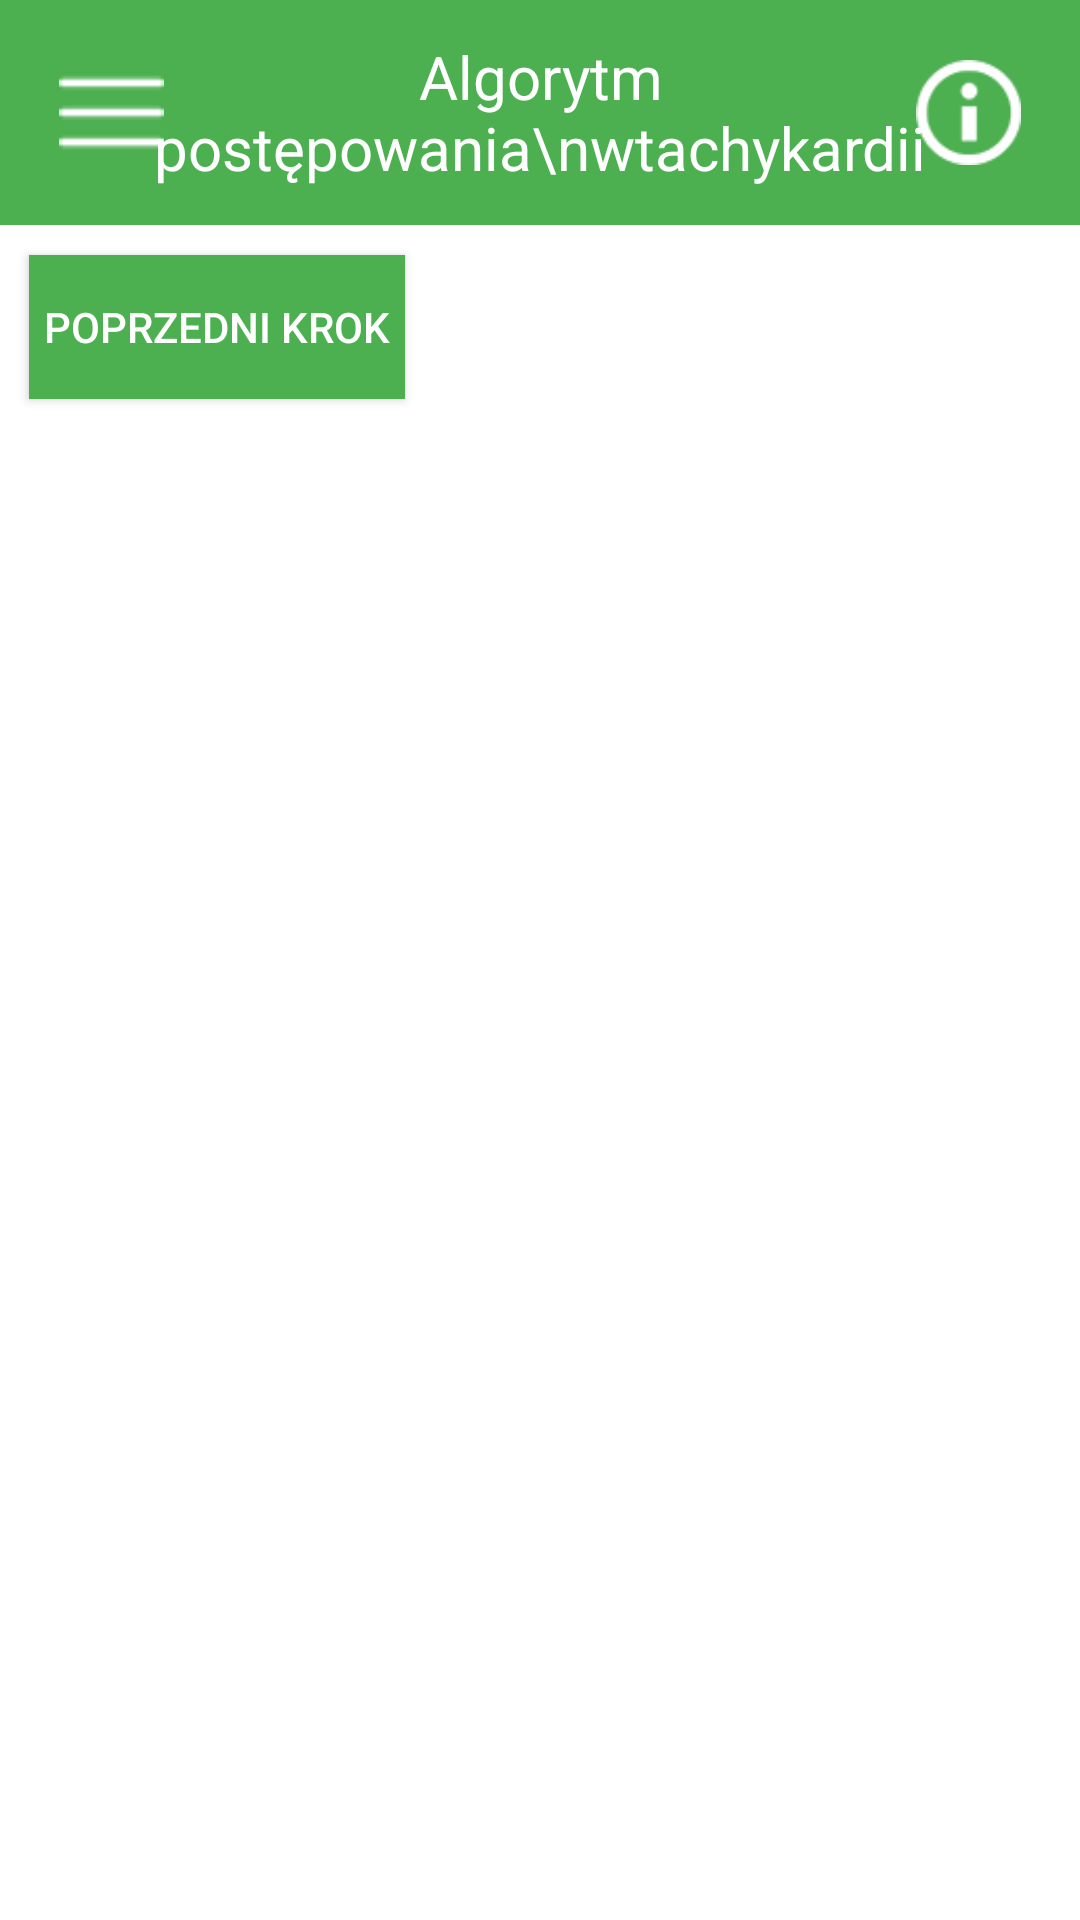

Locate icon controls on the screen. Image size 1080*1920, boxes as (x1, y1, x2, y2).
info: (916, 60, 1021, 165)
